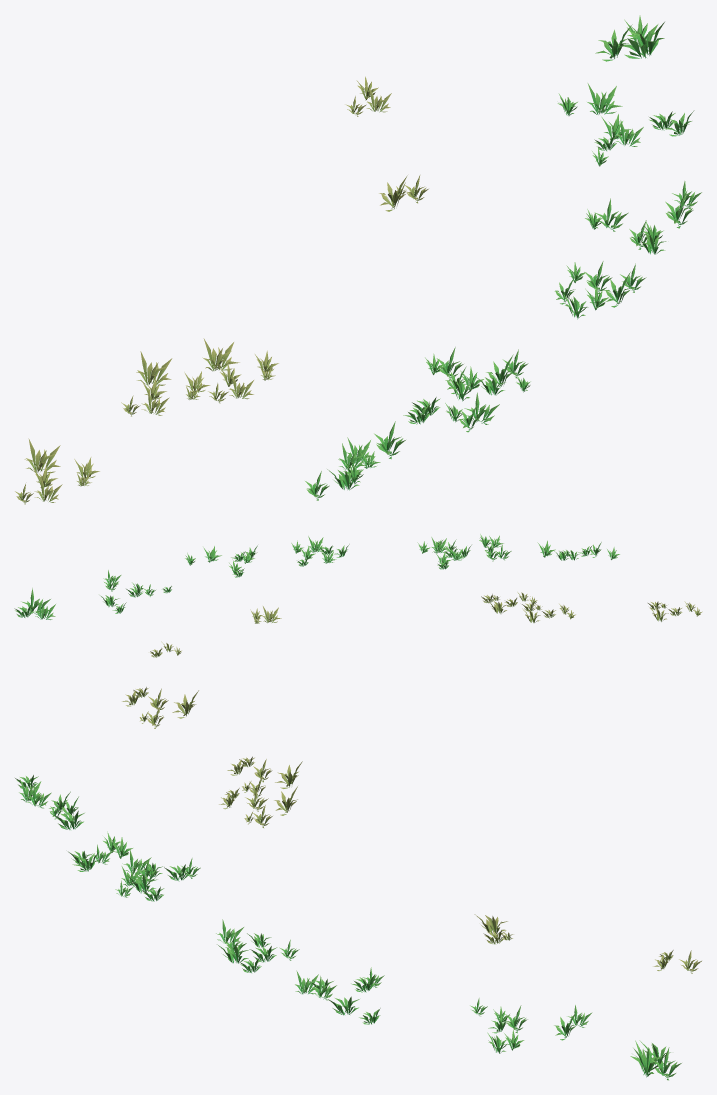
File: area_05_11.fbx
The picture shows the model from 3 angles, top to bottom: view 1: azimuth 30°, elevation 25°; view 2: azimuth 150°, elevation 25°; view 3: azimuth 270°, elevation 25°; orthographic projection. The views are drawn at different scales.
Visible parts, largest first — view 1: area_05_11; view 2: area_05_11; view 3: area_05_11.
Boxes of the visible parts, x1,y1,x2,y2 form: area_05_11: (15,15,701,504); area_05_11: (14,534,702,657); area_05_11: (15,687,701,1080).
Bounding box in the file's own units: 41.01 × 1.64 × 30.62.
